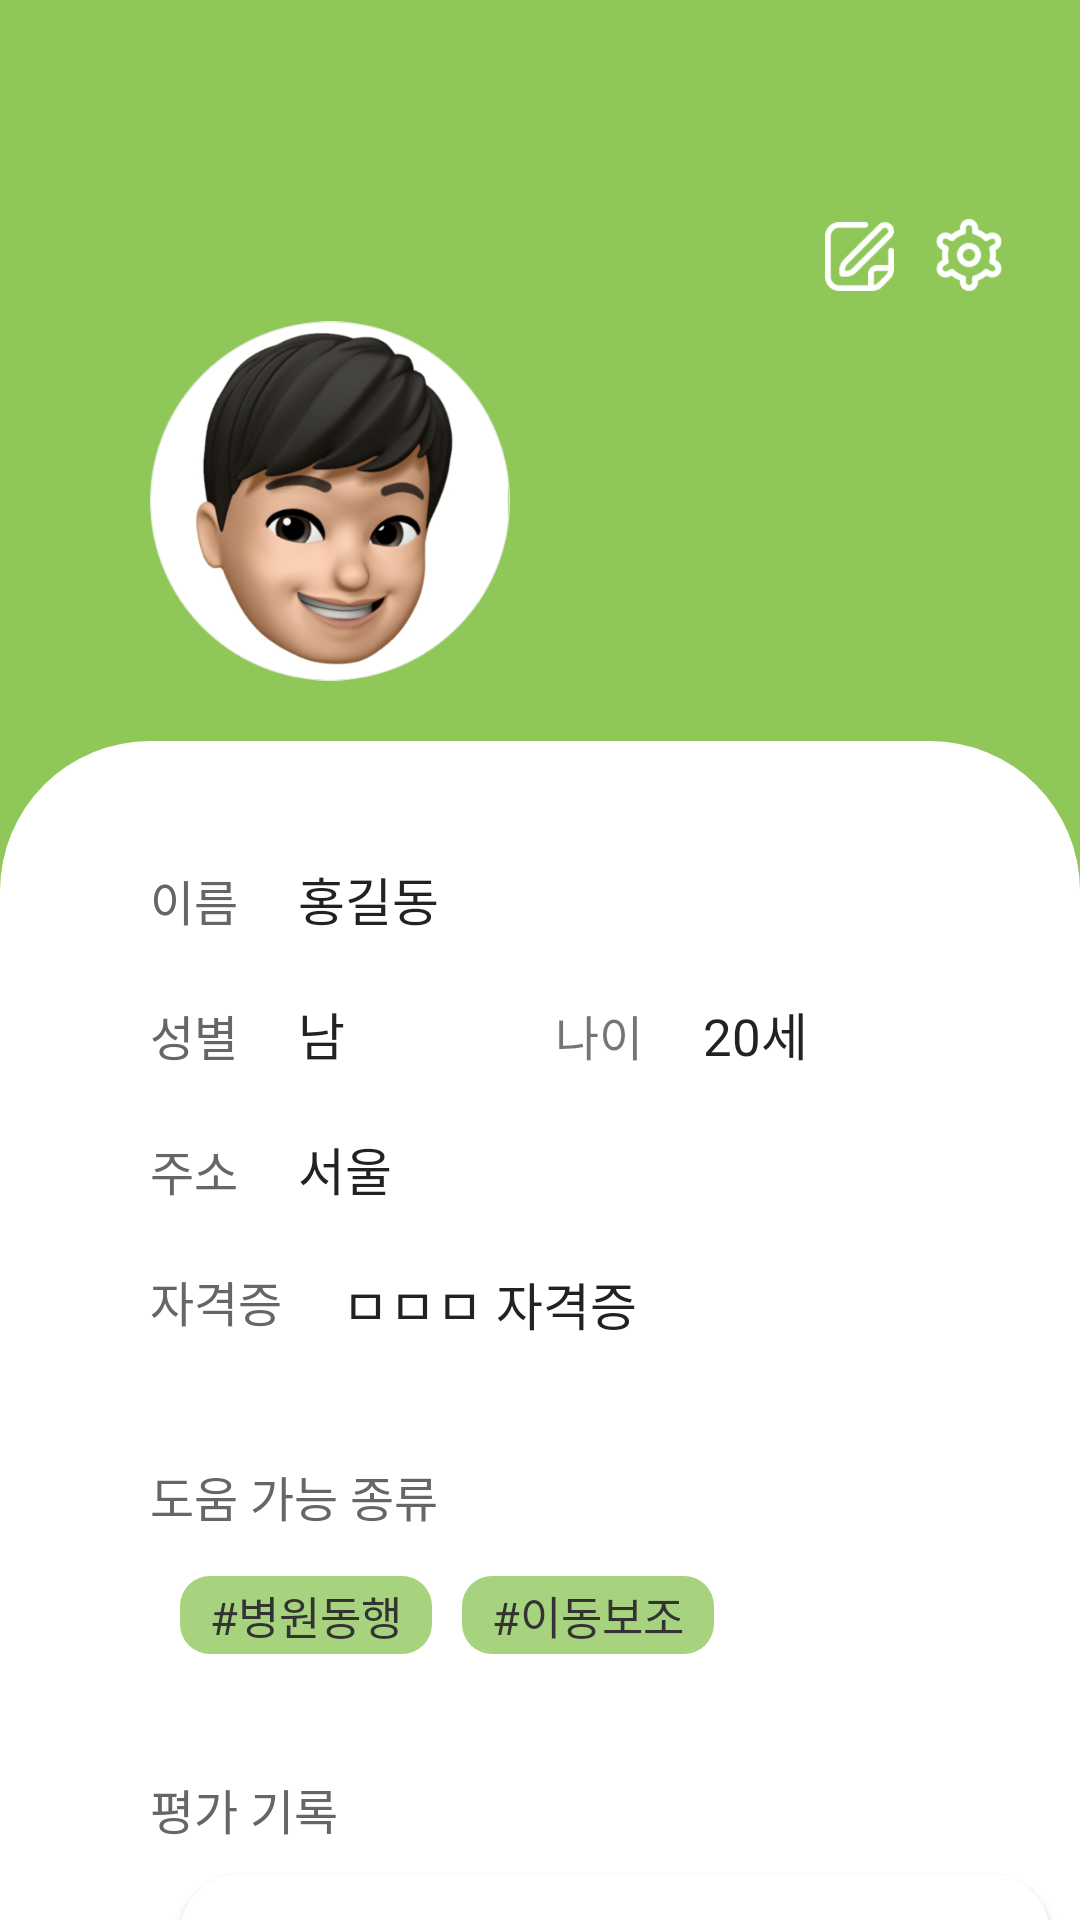

Icons on this 1080 x 1920 Android screen, each with the point to tap as (x=x, y=y):
profile: (x=330, y=501)
revise: (x=859, y=256)
setting: (x=969, y=255)
